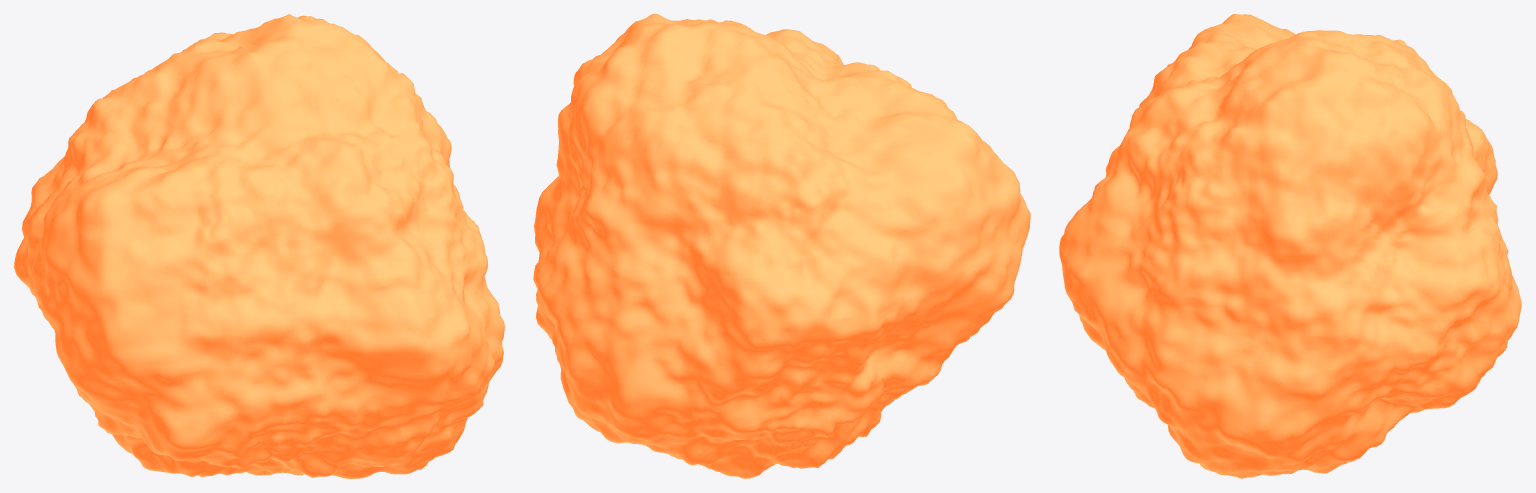
Rendered from asteroid_01.gltf.
3 views of the same model, side by side, from view 1: azimuth 30°, elevation 25°; view 2: azimuth 150°, elevation 25°; view 3: azimuth 270°, elevation 25° (orthographic). The views are drawn at different scales.
Parts seen in each view (by area): view 1: Cube; view 2: Cube; view 3: Cube.
Boxes of the visible parts, left/top/right/bottom form: Cube: left=14, top=14, right=504, bottom=478; Cube: left=533, top=14, right=1030, bottom=478; Cube: left=1059, top=14, right=1521, bottom=478.
Size of the model in its own units: 1.82 by 1.74 by 1.77.
